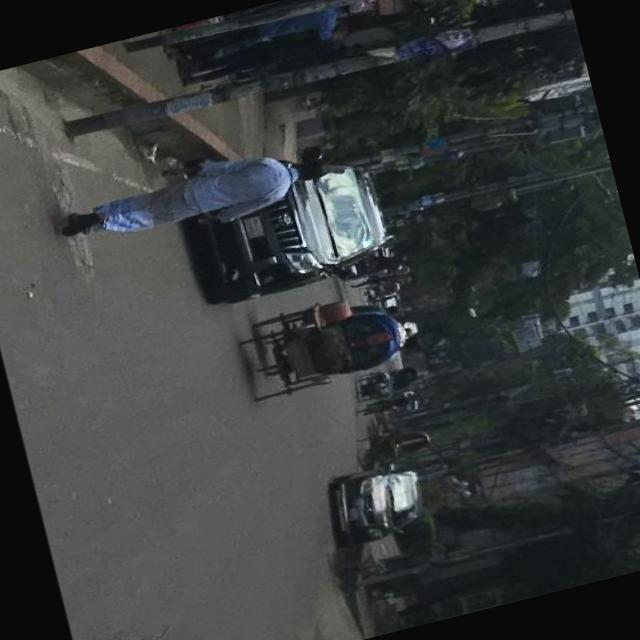car: (188, 153, 390, 308), (332, 456, 429, 546)
motorcycle: (236, 299, 408, 407), (355, 420, 435, 466), (361, 280, 399, 302)
